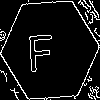F: (25, 25, 56, 72)
